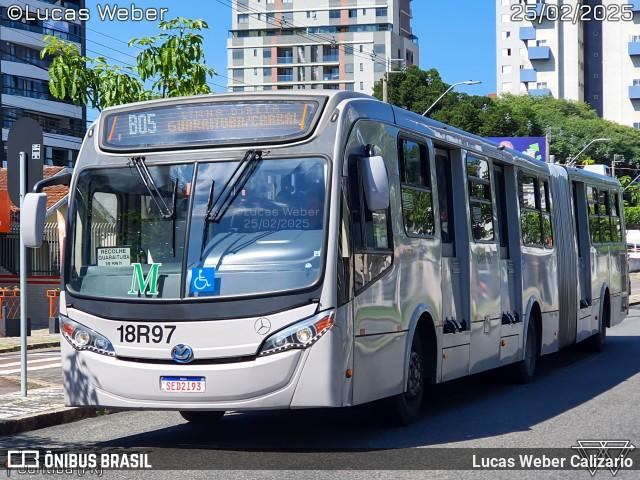GUARAITUBA: (165, 113, 247, 136)
